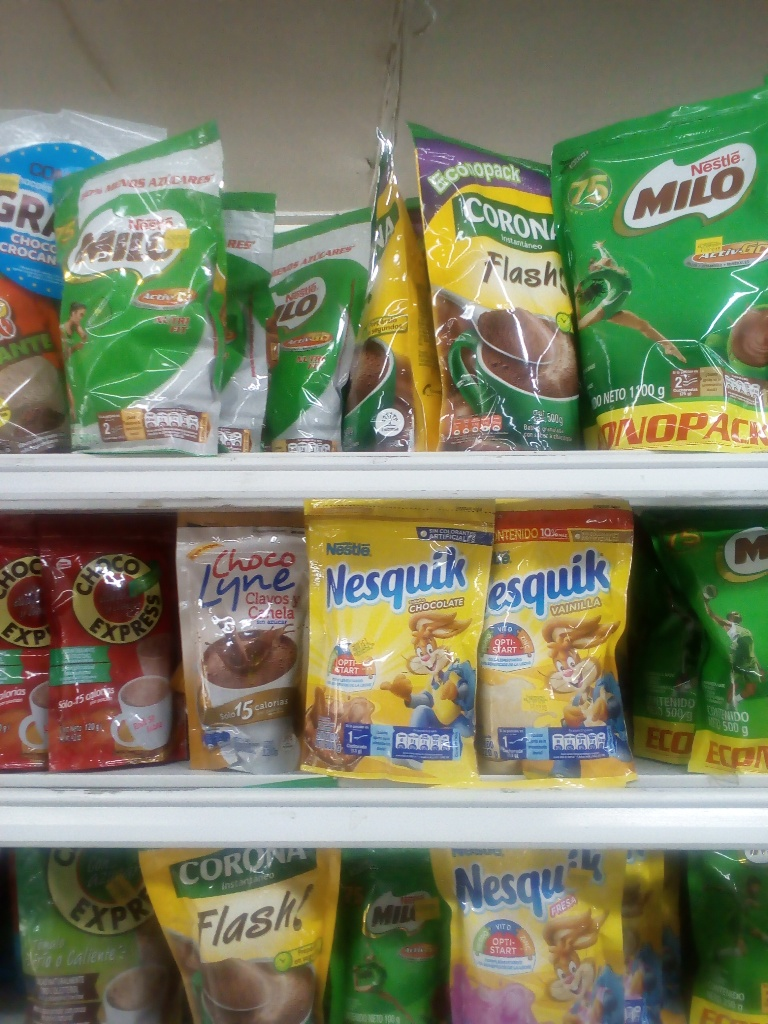COL0170203DYP10000: (331, 847, 450, 1022)
COL0170203DYP50000: (649, 509, 768, 776)
COL0170205DYP50000: (33, 123, 222, 459)
COL0170303DYP20000: (303, 496, 491, 783)
COL0170305DYP20000: (429, 846, 628, 1022)
